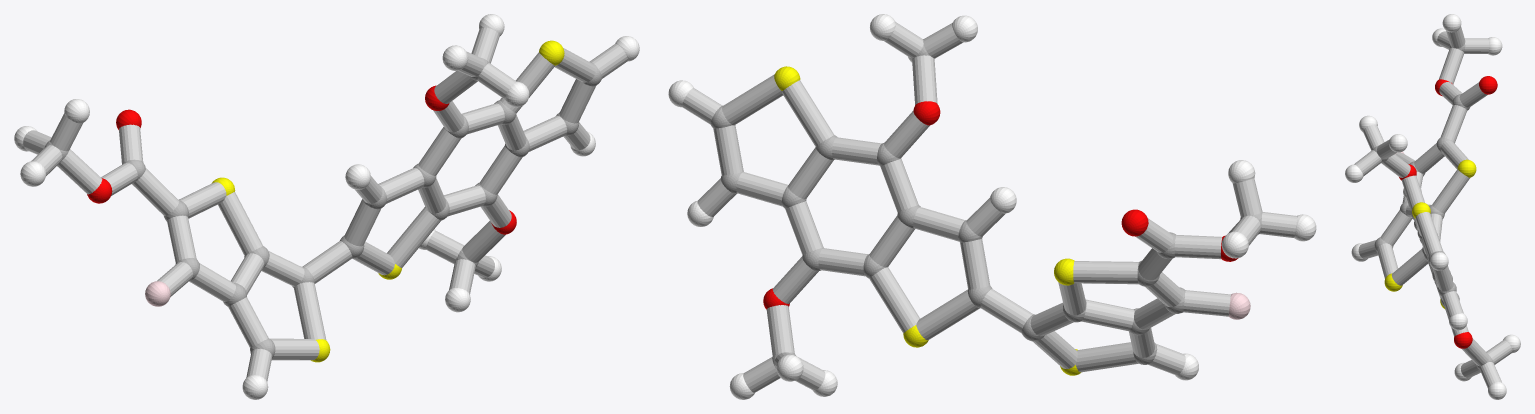
File: Dimethoxy_Benzodithiophene_Phi_30_Theta_230_Methylcarbonyl_3_Fluoro_Thienothiophene.glb
3 views of the same model, side by side, from view 1: azimuth 30°, elevation 25°; view 2: azimuth 150°, elevation 25°; view 3: azimuth 270°, elevation 25° (orthographic). The views are drawn at different scales.
Visible parts, largest first — view 1: grp15205, grp8689, grp1, grp13395, grp7241; view 2: grp15205, grp8689, grp1, grp13395, grp7241; view 3: grp15205, grp8689, grp1, grp13395, grp7241.
Boxes of the visible parts, left/top/right/bottom form: grp15205: left=23, top=27, right=627, bottom=381; grp8689: left=14, top=14, right=639, bottom=399; grp1: left=44, top=58, right=602, bottom=357; grp13395: left=87, top=85, right=516, bottom=234; grp7241: left=211, top=40, right=564, bottom=362; grp15205: left=682, top=22, right=1296, bottom=392; grp8689: left=668, top=14, right=1316, bottom=399; grp1: left=710, top=39, right=1262, bottom=365; grp13395: left=763, top=101, right=1238, bottom=309; grp7241: left=774, top=66, right=1081, bottom=375; grp15205: left=1354, top=27, right=1512, bottom=388; grp8689: left=1345, top=14, right=1520, bottom=399; grp1: left=1372, top=44, right=1493, bottom=369; grp13395: left=1399, top=76, right=1497, bottom=348; grp7241: left=1384, top=159, right=1476, bottom=308.
Bounding box in the file's own units: 16.51 × 8.52 × 5.62.
